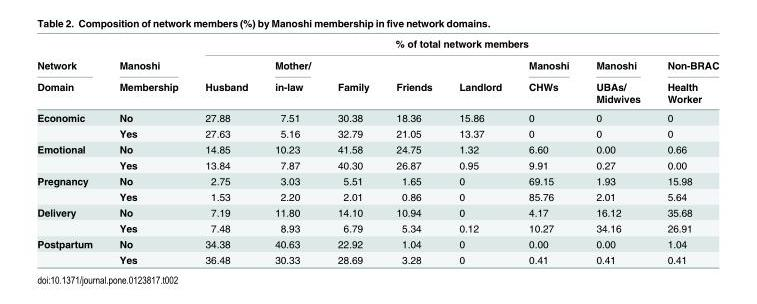table: (36, 37, 718, 265)
table column: (105, 37, 191, 265), (581, 37, 653, 265), (36, 37, 105, 265), (191, 37, 260, 265), (445, 37, 514, 265), (514, 37, 581, 265), (653, 37, 718, 265), (260, 37, 323, 265), (382, 37, 445, 265), (323, 37, 382, 265)
table column header: (36, 37, 718, 107)
table row: (36, 53, 718, 75), (36, 107, 718, 125), (36, 75, 718, 92), (36, 37, 718, 53), (36, 140, 718, 156), (36, 156, 718, 172), (36, 172, 718, 188), (36, 188, 718, 204), (36, 219, 718, 235), (36, 235, 718, 251), (36, 92, 718, 107), (36, 125, 718, 140), (36, 204, 718, 219), (36, 251, 718, 265)
table spanning cell: (191, 37, 718, 53), (105, 37, 191, 107), (36, 37, 105, 107), (581, 53, 653, 107), (191, 53, 260, 107), (445, 53, 514, 107), (514, 53, 581, 107), (653, 53, 718, 107), (260, 53, 323, 107), (382, 53, 445, 107), (323, 53, 382, 107), (36, 107, 105, 140), (36, 140, 105, 172), (36, 172, 105, 204), (36, 204, 105, 235), (36, 235, 105, 265)
